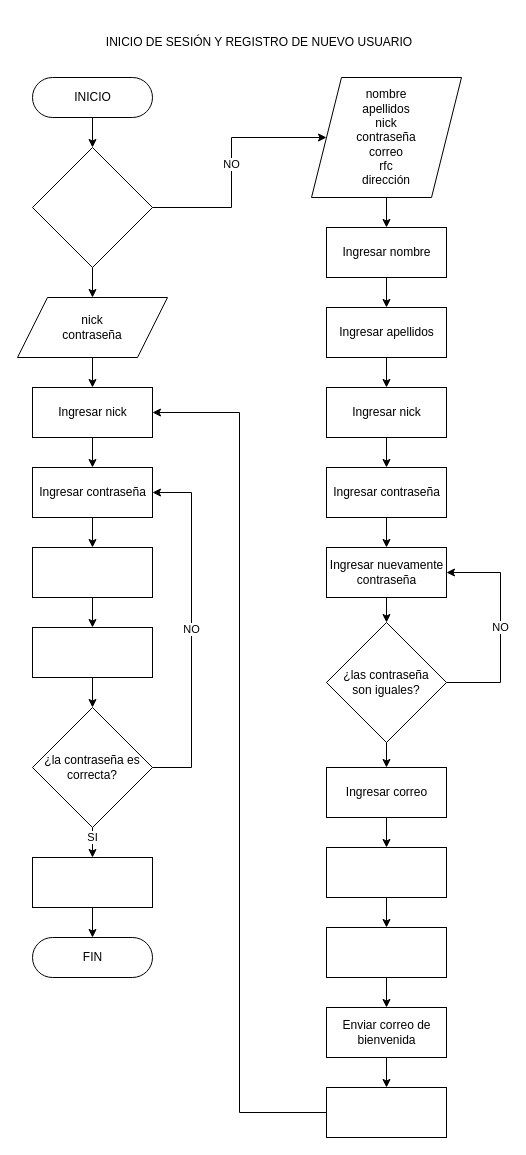
Image size: 526x1155. Some labels were removed from this diagram. Each missing label, with the centre of its shape:
"Almacenar en base de datos" goes at (x=386, y=1112).
"desencriptar contraseña" goes at (x=92, y=572).
"Ingresar direccion" goes at (x=386, y=952).
"Ingresar rfc" goes at (x=386, y=872).
"mostrar pagina de inicio" goes at (x=92, y=882).
"verificar contraseña" goes at (x=92, y=652).
"¿Tiene cuenta?" goes at (x=92, y=207).
